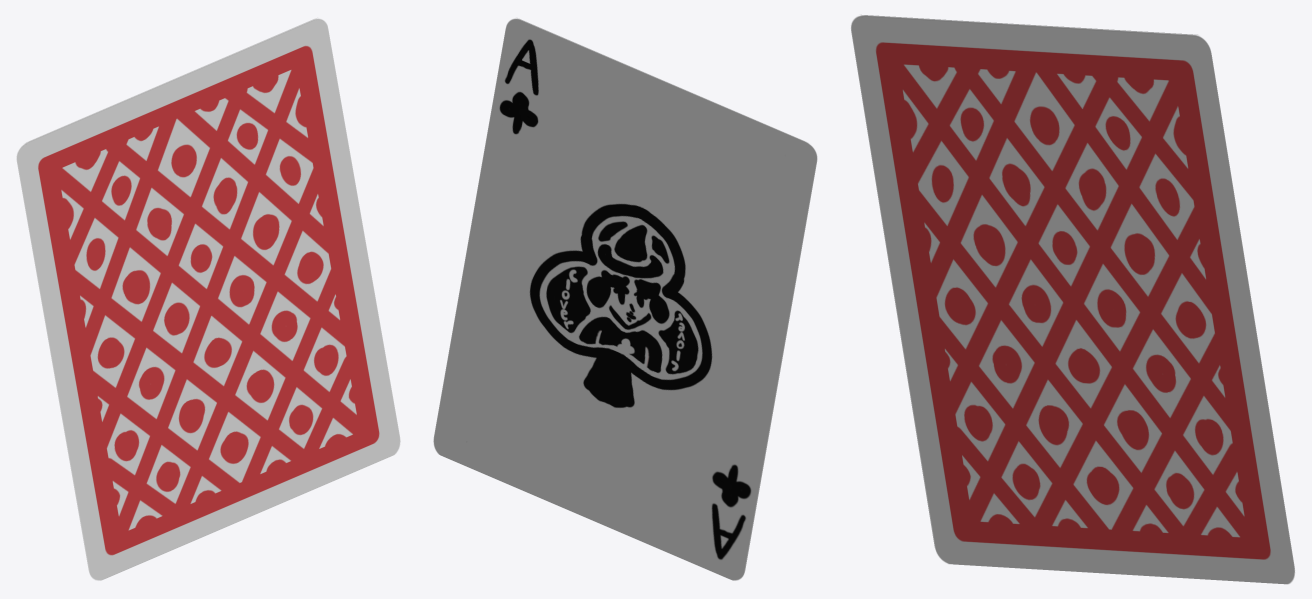
Rendered from aceofclubsgw.glb.
3 views of the same model, side by side, from view 1: azimuth 30°, elevation 25°; view 2: azimuth 150°, elevation 25°; view 3: azimuth 330°, elevation 25° (orthographic). The views are drawn at different scales.
Parts seen in each view (by area): view 1: Cube.001, Cube; view 2: Cube, Cube.001; view 3: Cube.001, Cube.
Part boxes in pixels (x1,y1,x2,y2): Cube.001: [17, 20, 400, 580]; Cube: [16, 18, 398, 572]; Cube: [434, 18, 817, 579]; Cube.001: [433, 30, 816, 580]; Cube.001: [851, 16, 1294, 584]; Cube: [851, 15, 1294, 567].
Size of the model in its own units: 0.9823 by 1.24 by 0.0001.
Materials: 2 (2 with a texture image).
